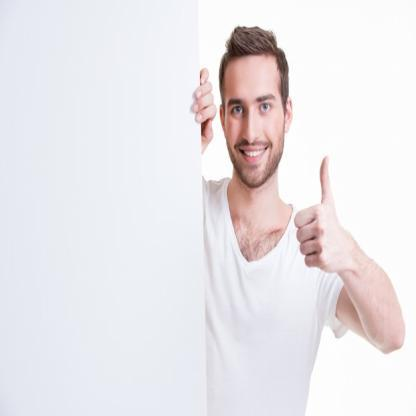thumb_up: (292, 152, 345, 274)
